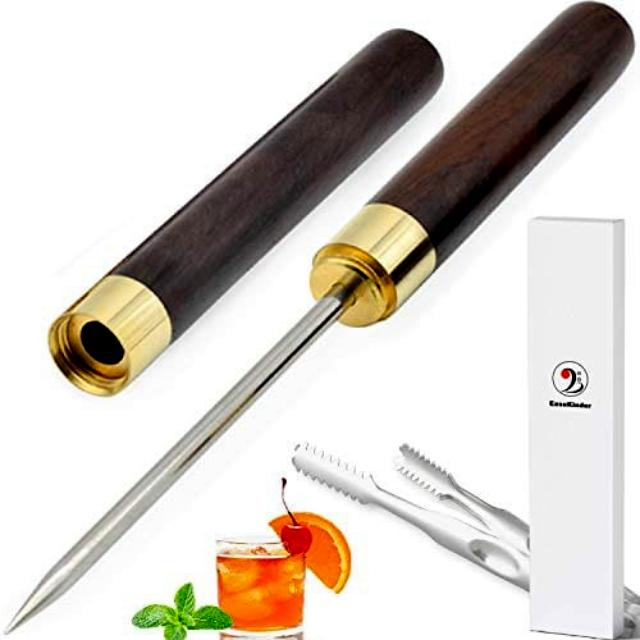ice pick: (2, 2, 634, 634), (46, 29, 444, 398)
